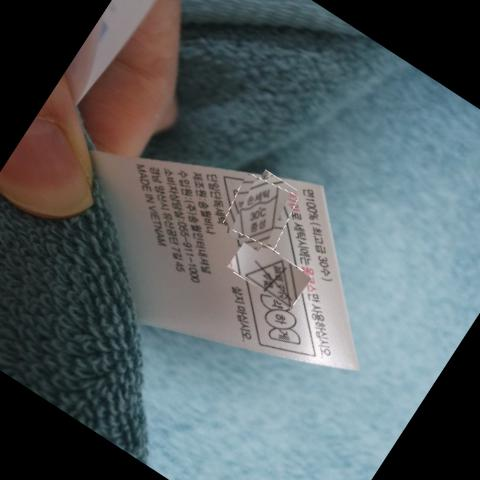DN_bleach: (248, 254, 294, 300)
hand_wash: (235, 182, 280, 239)
wring: (259, 294, 302, 345)
